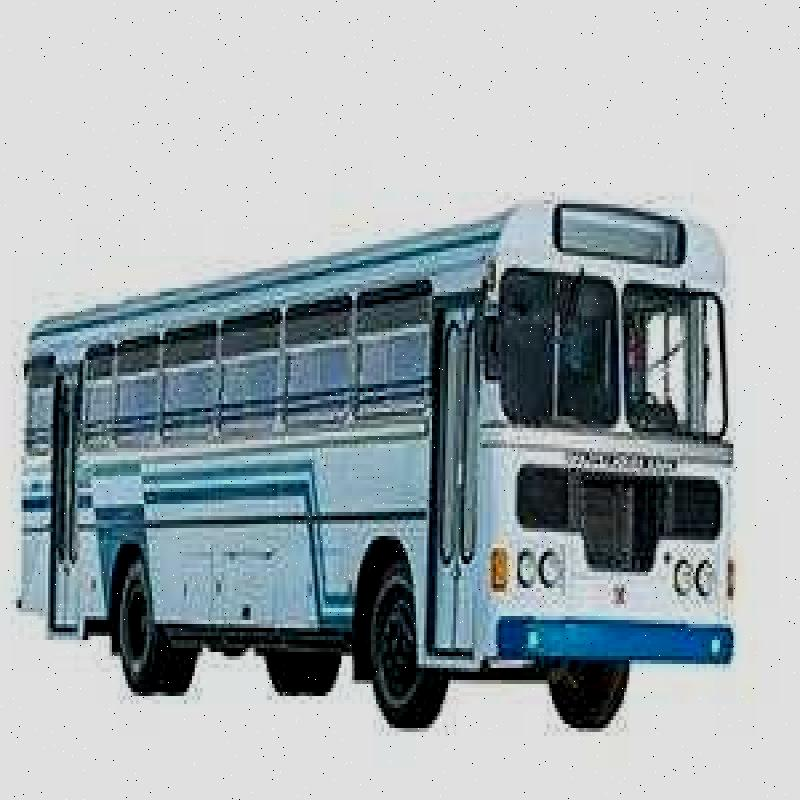bus: (0, 164, 741, 737)
